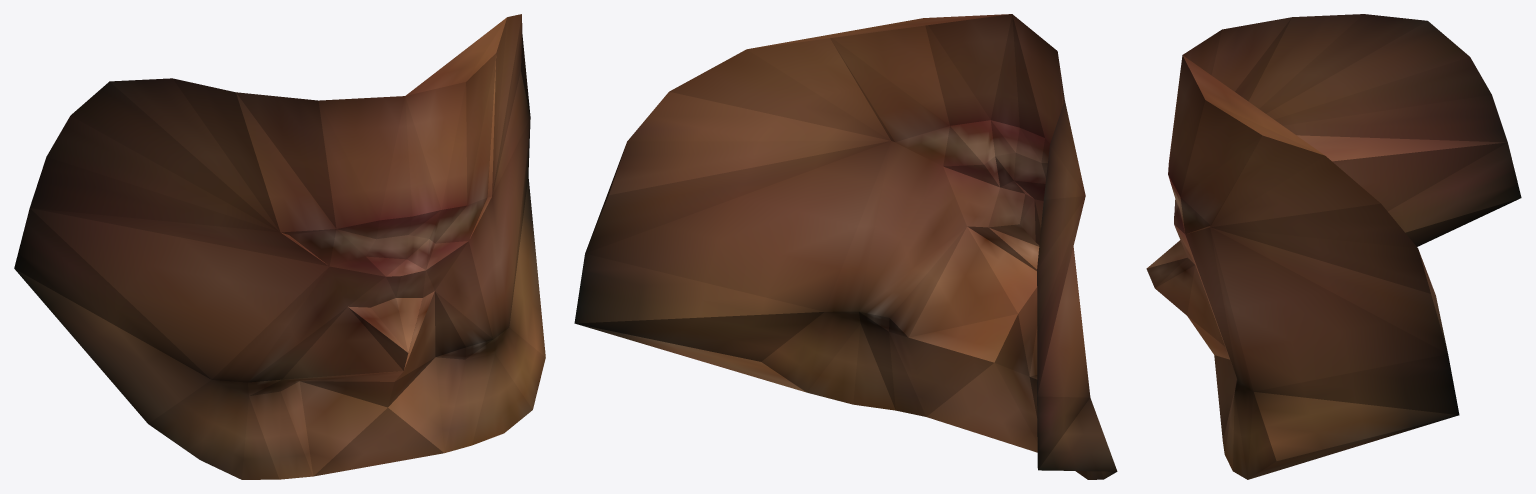
File: fake_8289.obj
3 renders of one model, left to right at view 1: azimuth 30°, elevation 25°; view 2: azimuth 150°, elevation 25°; view 3: azimuth 270°, elevation 25°, orthographic. The views are drawn at different scales.
Size of the model in its own units: 118 by 91 by 86.12.
